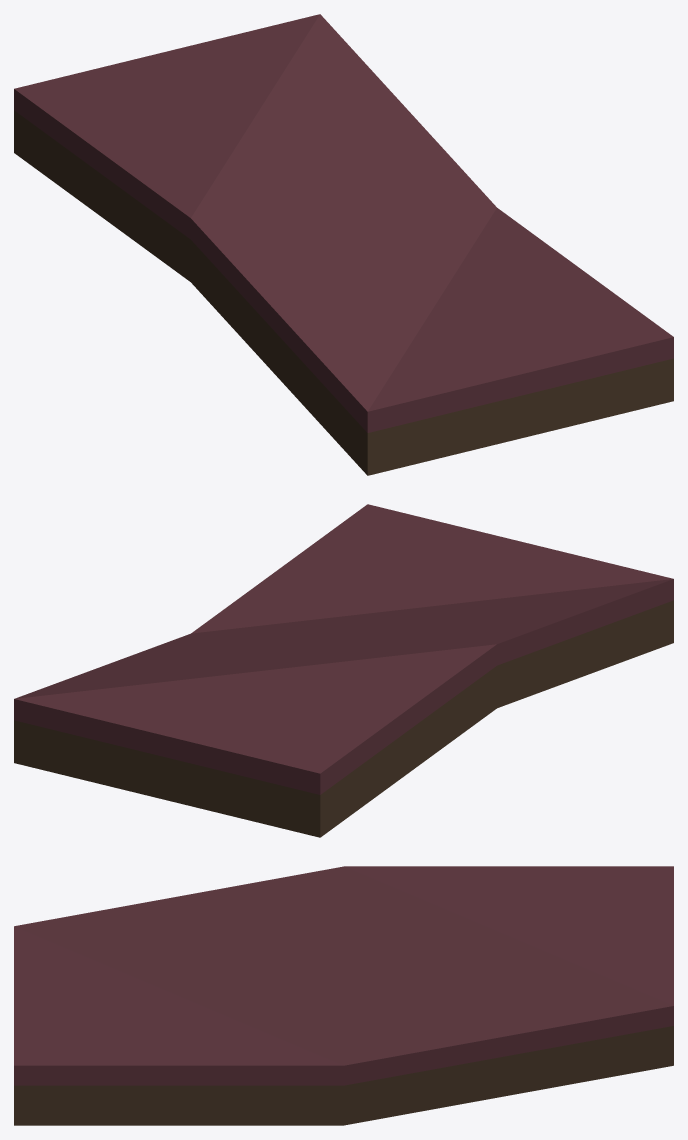
File: tiles-tile-hill-curve.glb
3 views of the same model, one above another, from view 1: azimuth 30°, elevation 25°; view 2: azimuth 150°, elevation 25°; view 3: azimuth 270°, elevation 25° (orthographic). The views are drawn at different scales.
Parts seen in each view (by area): view 1: tile-hill-curve; view 2: tile-hill-curve; view 3: tile-hill-curve.
Boxes of the visible parts, left/top/right/bottom form: tile-hill-curve: left=14, top=14, right=673, bottom=475; tile-hill-curve: left=14, top=504, right=673, bottom=837; tile-hill-curve: left=14, top=866, right=673, bottom=1125.
Bounding box in the file's own units: 30 × 12 × 60.
